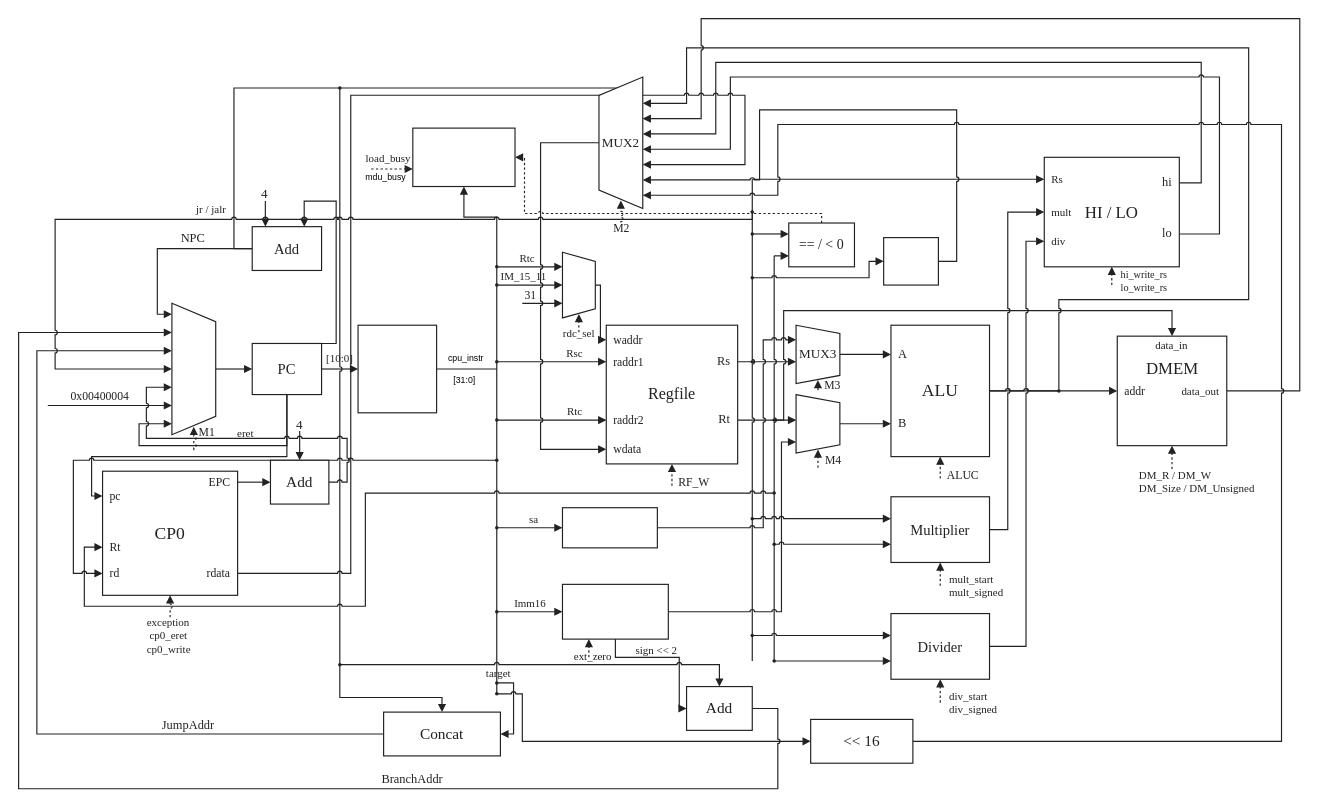
Some shapes in this 1320 by 809 pixel diagram are drawn without their labels. Here are the shapes that lost their labels. From the top down, the centre of each, then its label:
At pixel 463 157: "Decoder Controller".
At pixel 911 261: "CLZ".
At pixel 579 284: "Rdc".
At pixel 193 368: "MUX1".
At pixel 397 368: "IMEM (imem_rom)".
At pixel 817 423: "MUX4".
At pixel 610 527: "Ext5".
At pixel 615 611: "Ext16 sign / zero".
